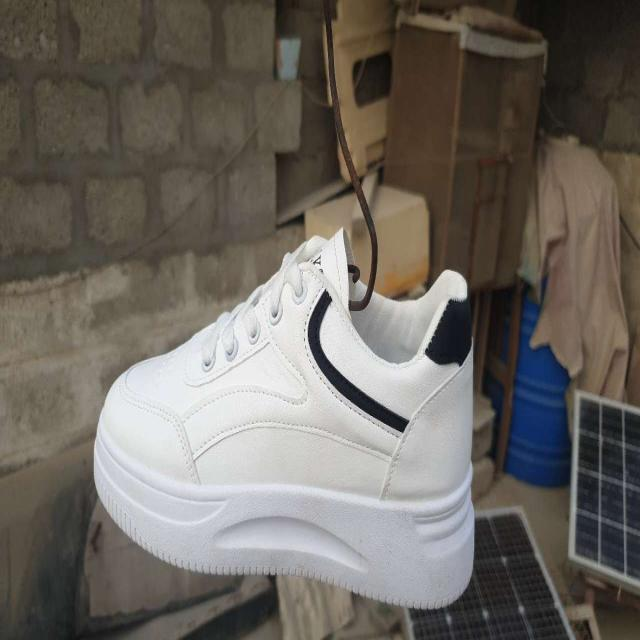shoes: (91, 224, 475, 612)
